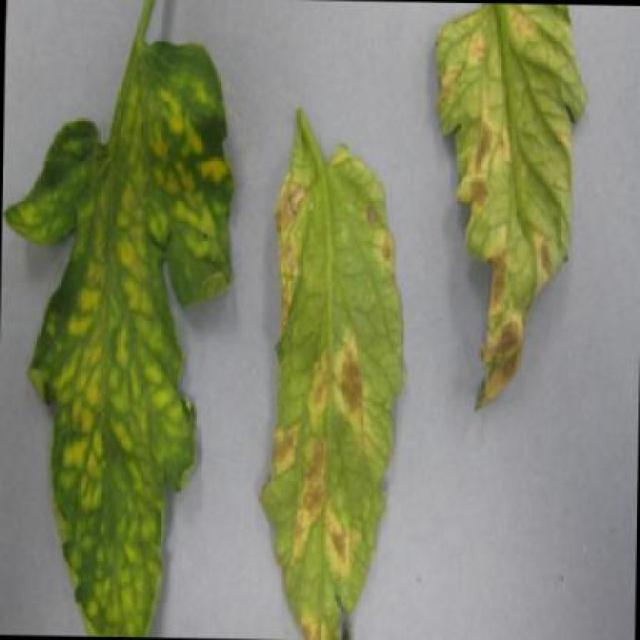Leaf Mold: (3, 20, 240, 637), (416, 8, 622, 424), (246, 129, 411, 640)
